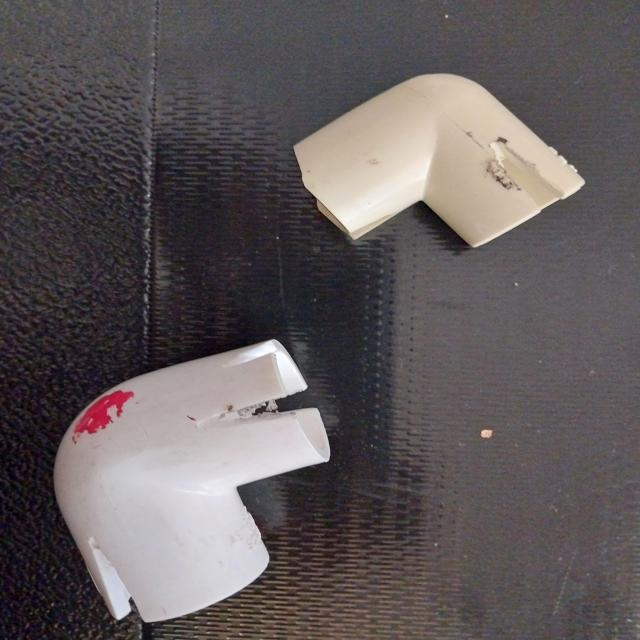Defective: (475, 131, 567, 222), (82, 534, 157, 629), (177, 395, 324, 442), (74, 402, 119, 434)
L Joint: (53, 340, 332, 627), (293, 74, 586, 250)
